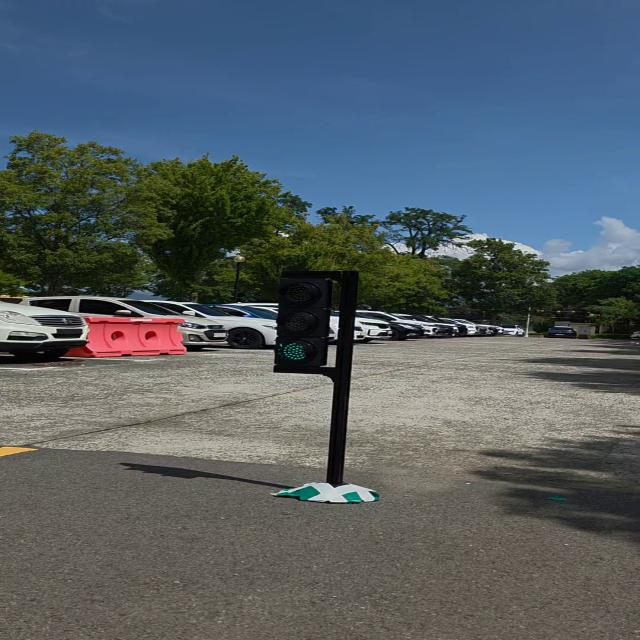green: (272, 273, 332, 372)
